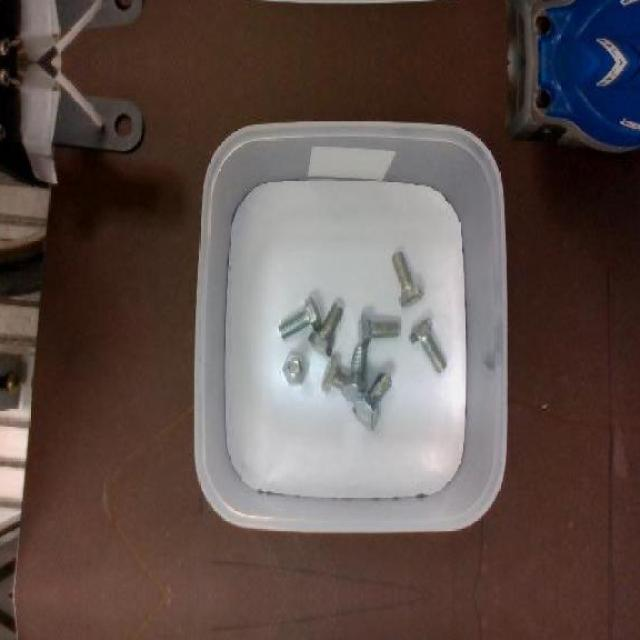screw: (409, 316, 448, 372), (352, 371, 392, 420), (308, 304, 343, 358), (392, 250, 424, 308), (279, 296, 322, 338), (357, 310, 400, 347), (282, 350, 308, 384)
